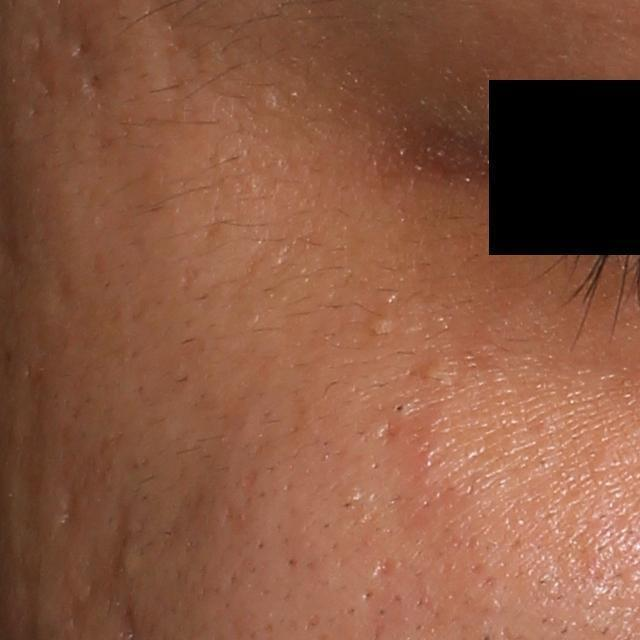atrophic_scar: (57, 486, 83, 536), (367, 554, 397, 582), (83, 68, 107, 96)
comedo: (360, 310, 402, 337), (420, 353, 443, 382)
